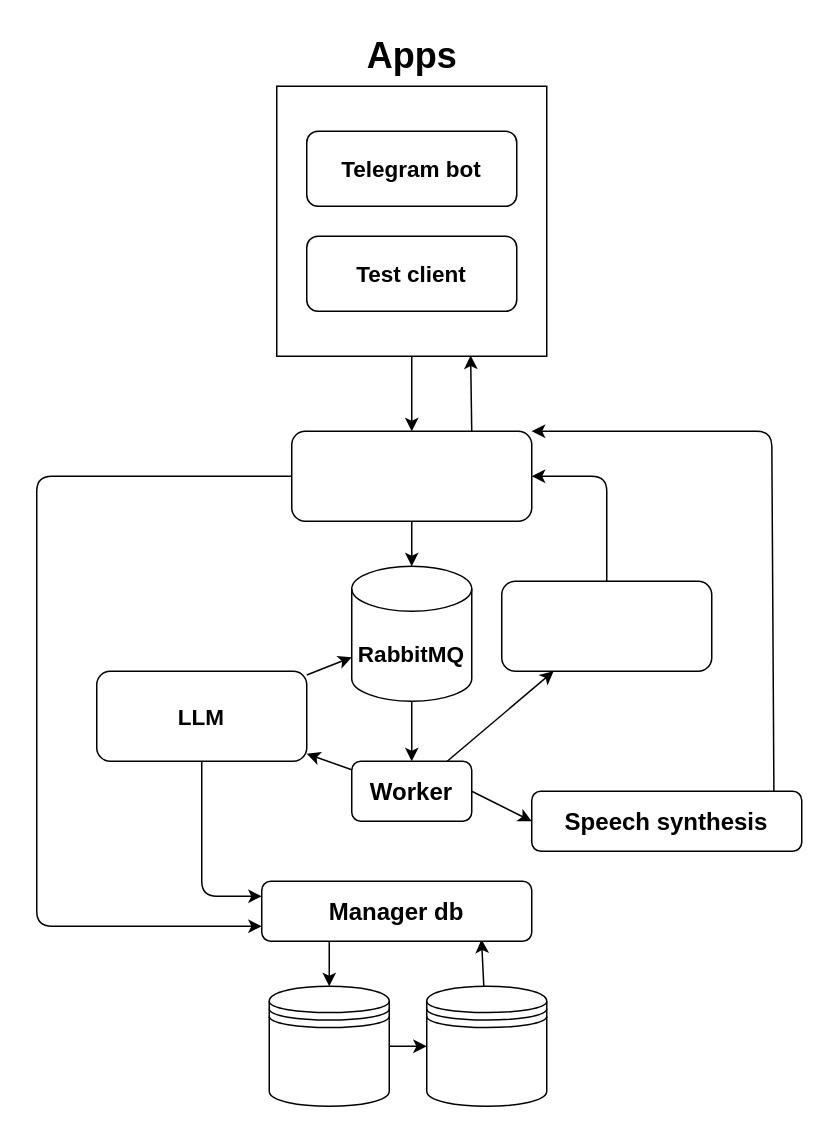
Some shapes in this 828 by 1133 pixel diagram are drawn without their labels. Each missing label, with the box of its shape:
PsgrSQL: (425, 985, 547, 1106)
Redis: (268, 985, 389, 1106)
Transcription model: (500, 580, 712, 671)
Wrapper: (290, 430, 532, 521)
